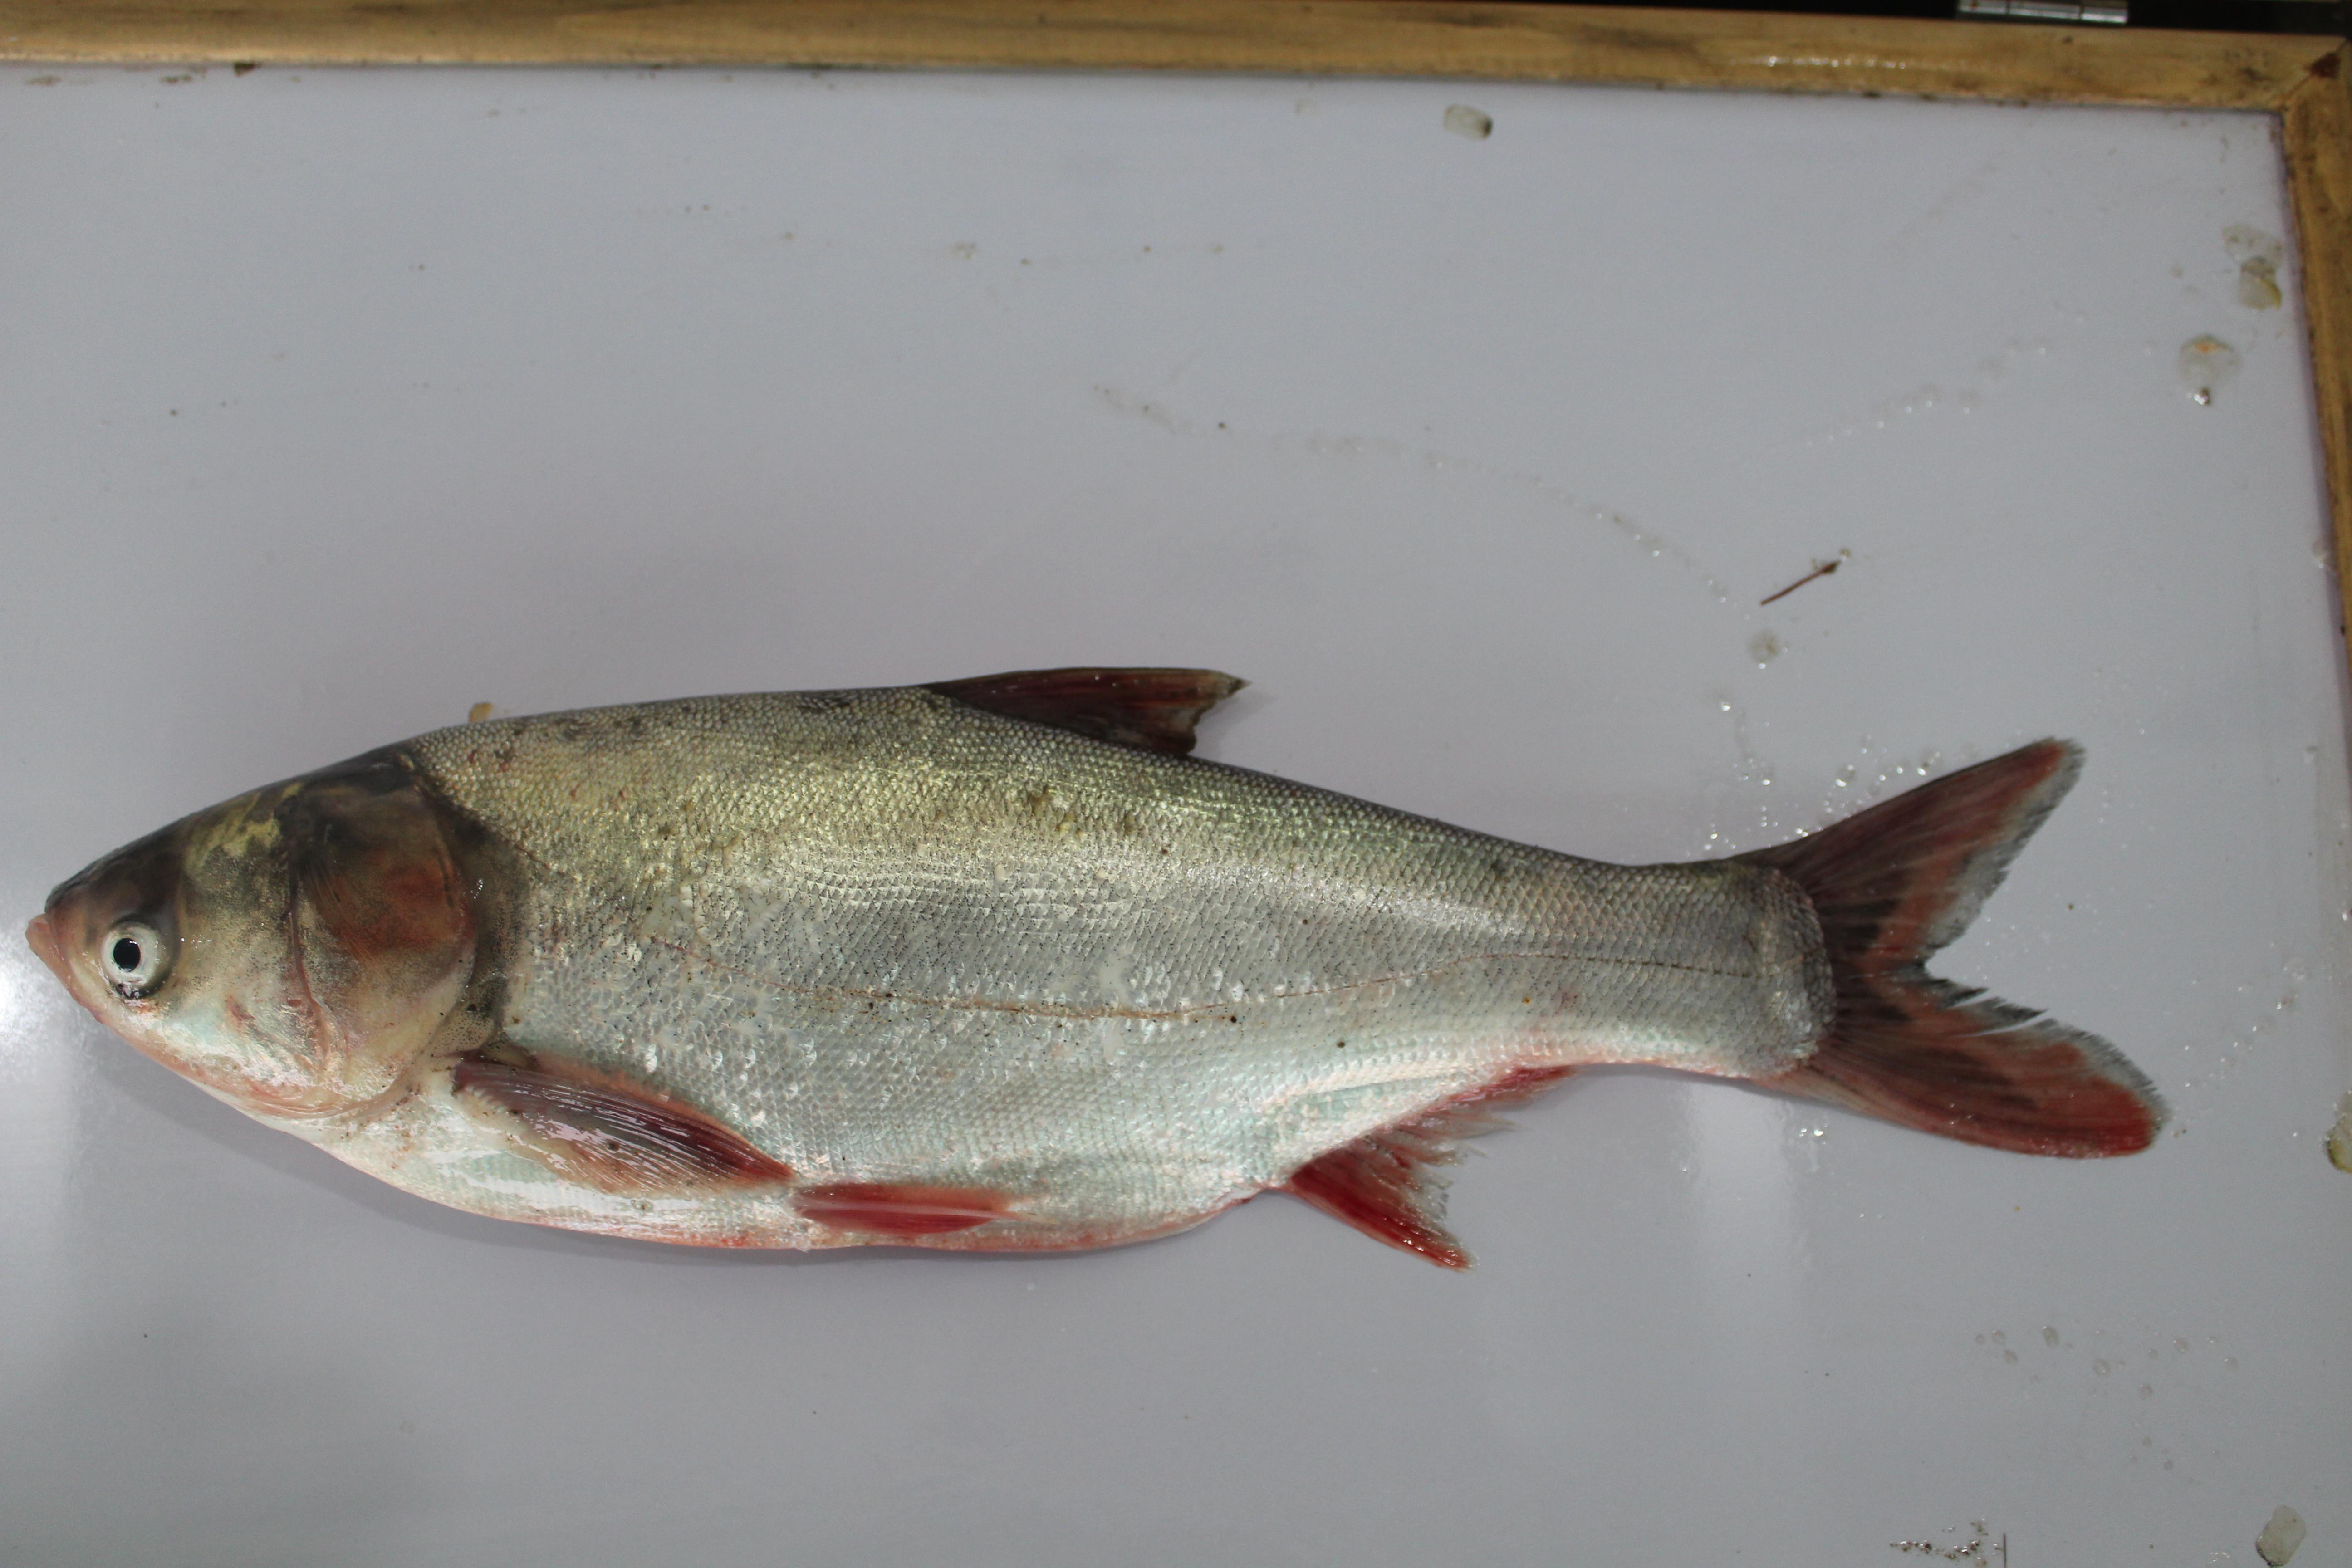Silver Carp: (28, 667, 2179, 1270)
